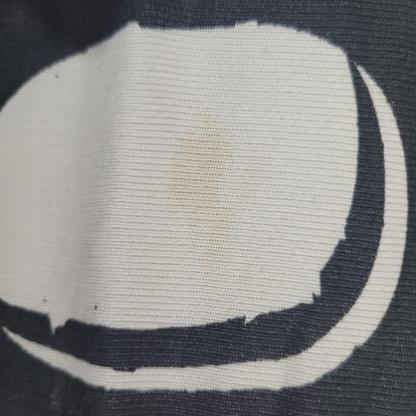spot: (168, 108, 276, 264), (176, 128, 254, 226)
